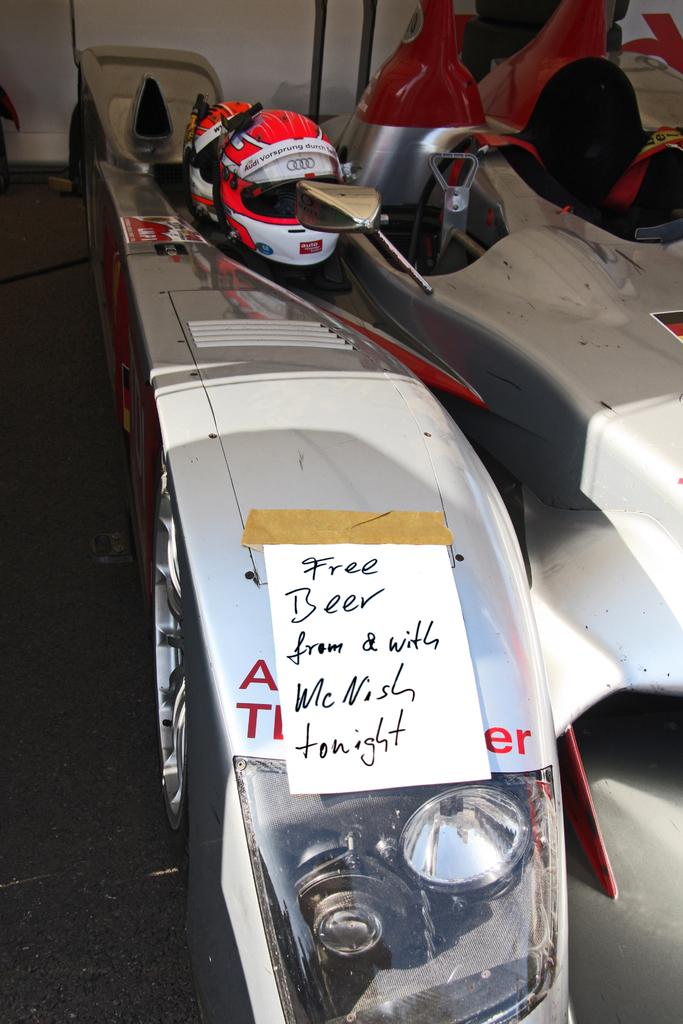helmet: (219, 109, 346, 267), (182, 101, 292, 228)
